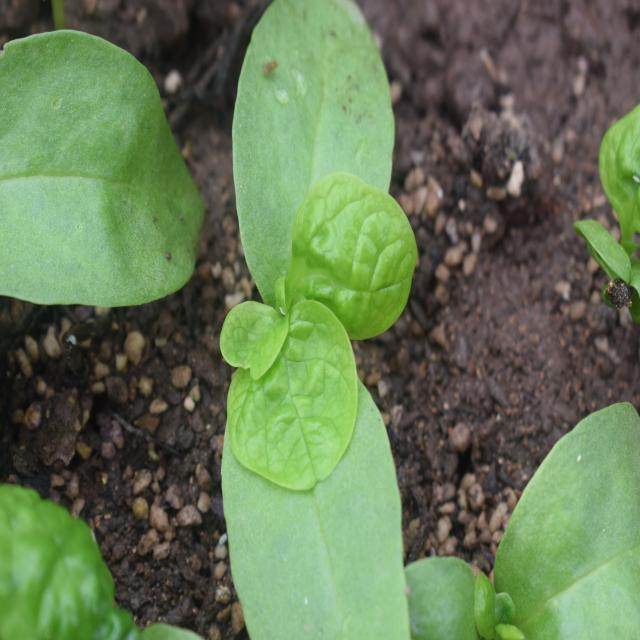Ceylon spinach: (197, 12, 433, 629)
